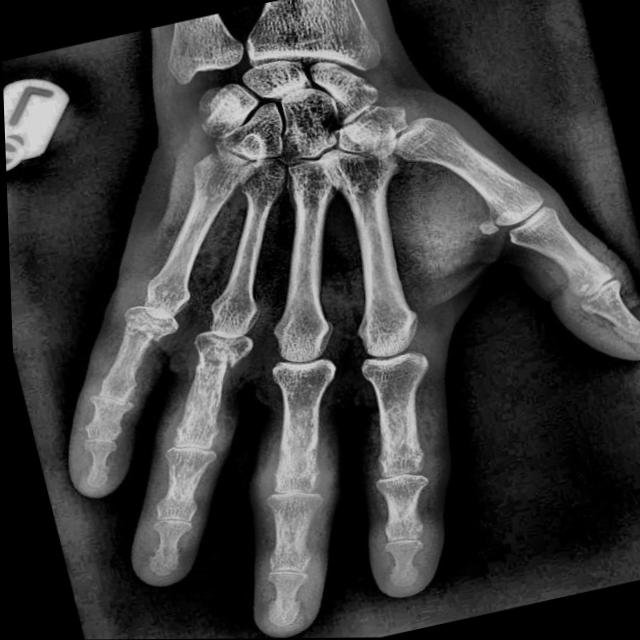fracture: (120, 318, 158, 349), (216, 350, 236, 373)
